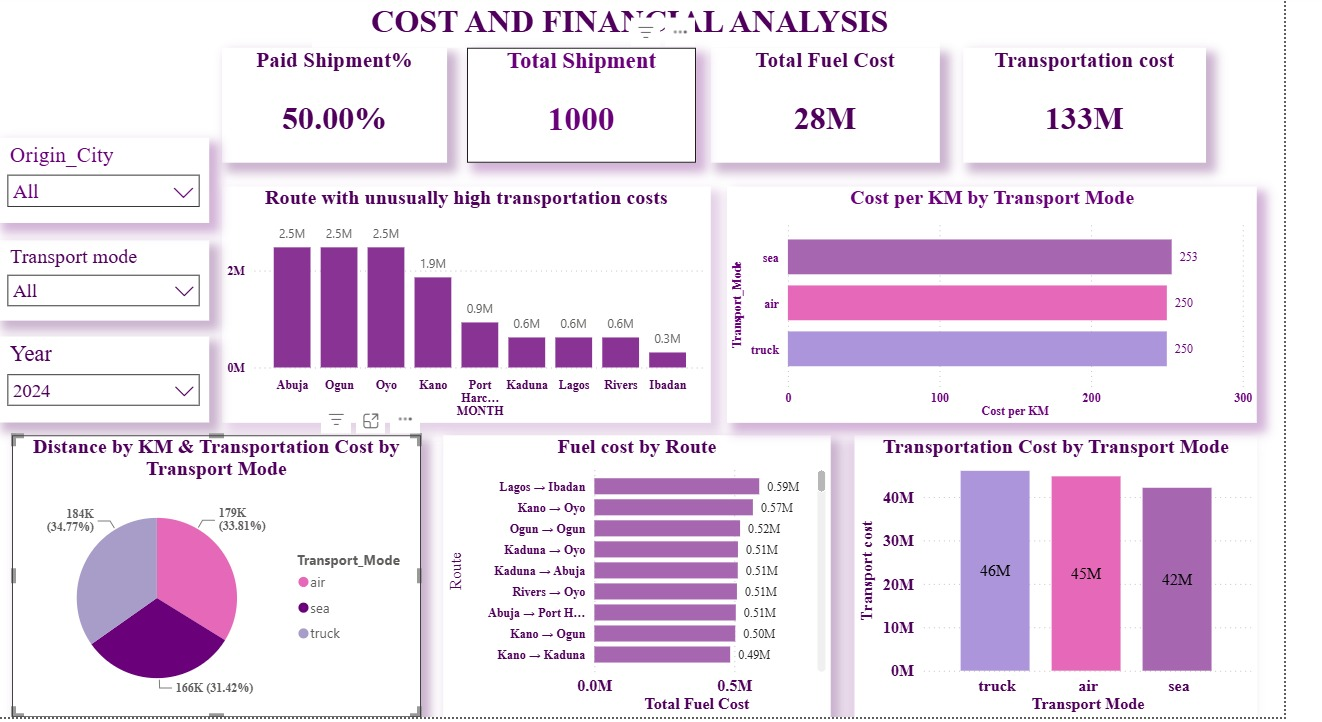

Layout of this report page (visuals, bound fields, positions):
{"tool":"powerbi","page":{"name":"COST AND FINAND FINANCIAL ANALYSIS","canvas":[1280,720],"ordinal":1},"visuals":[{"type":"card","title":"Paid Shipment%","fields":{"Values":["Distance vs transport cost.Paid %"]},"box":[212,77.1,276.6,114.2],"z":0},{"type":"card","title":"Transportation cost","fields":{"Values":["Distance vs transport cost.Total transportation cost"]},"box":[1007.5,77.1,262.9,114.2],"z":1000},{"type":"card","title":"Total Fuel Cost","fields":{"Values":["Sum(Expensive transport mode.total_fuel_cost)"]},"box":[744.6,77.1,251.9,114.2],"z":2000},{"type":"columnChart","title":"Transportation_Cost by Transport_Mode","fields":{"Category":["procurementdataset (1).Transport_Mode"],"Y":["Sum(procurementdataset (1).Transportation_Cost)"]},"box":[853.3,439.1,417,280.8],"z":3000},{"type":"scatterChart","title":"Distance_KM and Transportation_Cost by Transport_Mode","fields":{"X":["Sum(procurementdataset (1).Distance_KM)"],"Y":["Sum(procurementdataset (1).Transportation_Cost)"],"Series":["procurementdataset (1).Transport_Mode"],"Category":["procurementdataset (1).Shipment_ID"]},"box":[0,439.1,425.3,280.8],"z":4000},{"type":"lineChart","title":"Transport & Fuel Cost by Month","fields":{"Y":["Sum(procurementdataset (1).Transportation_Cost)"],"Category":["DateTable.MonthName"],"Y2":["Sum(procurementdataset (1).Fuel_Cost)"]},"box":[213.3,191.3,440.4,235.4],"z":5000},{"type":"slicer","fields":{"Values":["UNUSUALLY HIGH DELIVERY COSTS.transport_mode"]},"box":[0,191.3,212,106],"z":6000},{"type":"slicer","fields":{"Values":["shipment date.month.Variation.Date Hierarchy.Year","shipment date.month.Variation.Date Hierarchy.Quarter","shipment date.month.Variation.Date Hierarchy.Month","shipment date.month.Variation.Date Hierarchy.Day"]},"box":[0,306.9,212,119.7],"z":7000},{"type":"textbox","box":[382.6,13.8,624.9,49.5],"z":8000},{"type":"barChart","title":"Fuel cost by Route","fields":{"Category":["procurementdataset (1).Route"],"Y":["Sum(procurementdataset (1).Fuel_Cost)"]},"box":[425.3,439.1,428,280.8],"z":9000},{"type":"card","title":"Total Shipment","fields":{"Values":["Sum(Total Transportation cost.total_shipments)"]},"box":[488.6,77.1,256,114.2],"z":10000},{"type":"slicer","fields":{"Values":["UNUSUALLY HIGH DELIVERY COSTS.origin_city"]},"box":[0,77.1,212,114.2],"z":11000},{"type":"barChart","title":"Cost per KM by Transport Mode","fields":{"Y":["Distance vs transport cost.Cost per KM"],"Category":["procurementdataset (1).Transport_Mode"]},"box":[653.8,191.3,616.6,235.4],"z":12000}]}

Visuals, with their boxes in screenshot pixels (x1, y1, x2, y2), scaled from the page's 1280x720 canvas onto the 1322x722 screenshot:
"Paid Shipment%" card: select_region(219, 77, 505, 192)
"Transportation cost" card: select_region(1041, 77, 1312, 192)
"Total Fuel Cost" card: select_region(769, 77, 1029, 192)
"Transportation_Cost by Transport_Mode" columnChart: select_region(881, 440, 1312, 721)
"Distance_KM and Transportation_Cost by Transport_Mode" scatterChart: select_region(0, 440, 439, 721)
"Transport & Fuel Cost by Month" lineChart: select_region(220, 192, 675, 428)
slicer - UNUSUALLY HIGH DELIVERY COSTS.transport_mode: select_region(0, 192, 219, 298)
slicer - shipment date.month.Variation.Date Hierarchy.Year x shipment date.month.Variation.Date Hierarchy.Quarter: select_region(0, 308, 219, 428)
textbox: select_region(395, 14, 1041, 63)
"Fuel cost by Route" barChart: select_region(439, 440, 881, 721)
"Total Shipment" card: select_region(505, 77, 769, 192)
slicer - UNUSUALLY HIGH DELIVERY COSTS.origin_city: select_region(0, 77, 219, 192)
"Cost per KM by Transport Mode" barChart: select_region(675, 192, 1312, 428)
